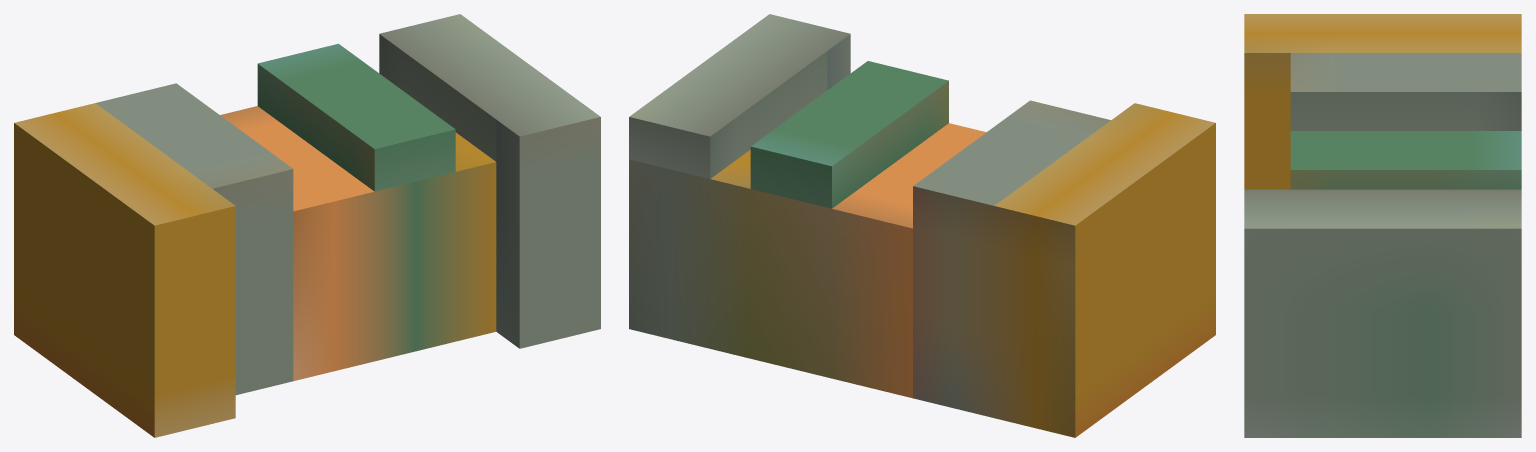
File: AssortedBooks_C_01.fbx
3 renders of one model, left to right at view 1: azimuth 30°, elevation 25°; view 2: azimuth 150°, elevation 25°; view 3: azimuth 270°, elevation 25°, orthographic.
Parts seen in each view (by area): view 1: AssortedBooks_C_01; view 2: AssortedBooks_C_01; view 3: AssortedBooks_C_01.
Part boxes in pixels (bbox=[...]): AssortedBooks_C_01: bbox=[14, 14, 600, 437]; AssortedBooks_C_01: bbox=[629, 14, 1215, 437]; AssortedBooks_C_01: bbox=[1244, 14, 1521, 437].
Bounding box in the file's own units: 55 × 30 × 25.
Materials: 1 (1 with a texture image).
